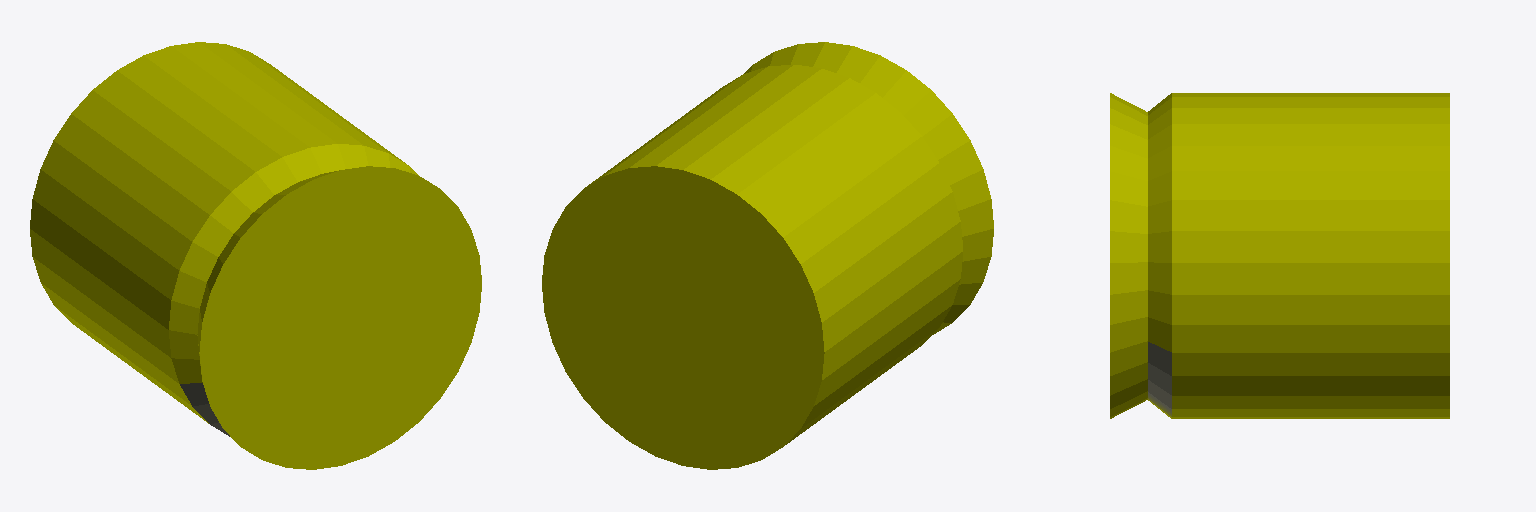
The picture shows the model from 3 angles: view 1: azimuth 30°, elevation 25°; view 2: azimuth 150°, elevation 25°; view 3: azimuth 270°, elevation 25°; orthographic projection.
Visible parts, largest first — view 1: 薬莢; view 2: 薬莢; view 3: 薬莢.
Part boxes in pixels (x1,y1,x2,y2): 薬莢: (30, 42, 481, 469); 薬莢: (542, 42, 993, 469); 薬莢: (1110, 93, 1449, 418).
Bounding box in the file's own units: 2 × 2 × 2.08.
Materials: 1 (1 with a texture image).